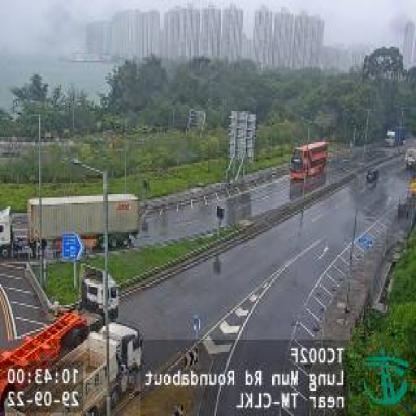Bus: (292, 140, 329, 182)
Car: (362, 165, 380, 184)
Truck: (1, 264, 125, 414), (8, 319, 143, 414), (1, 194, 138, 260)
